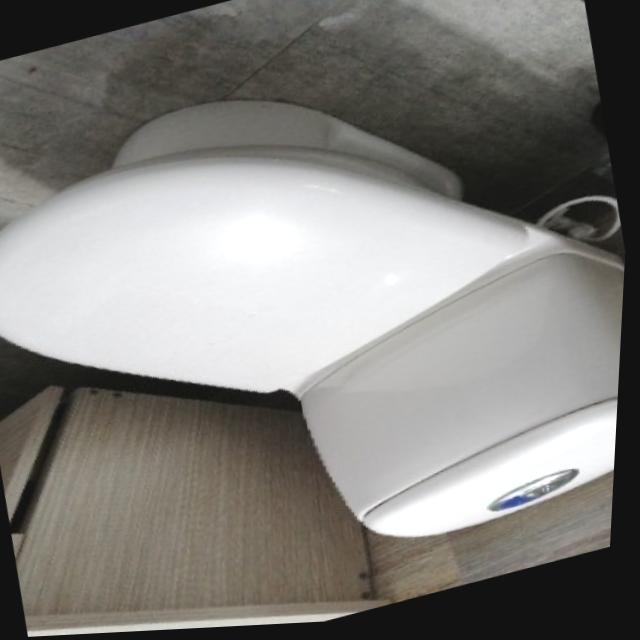toilet: (0, 7, 639, 640)
